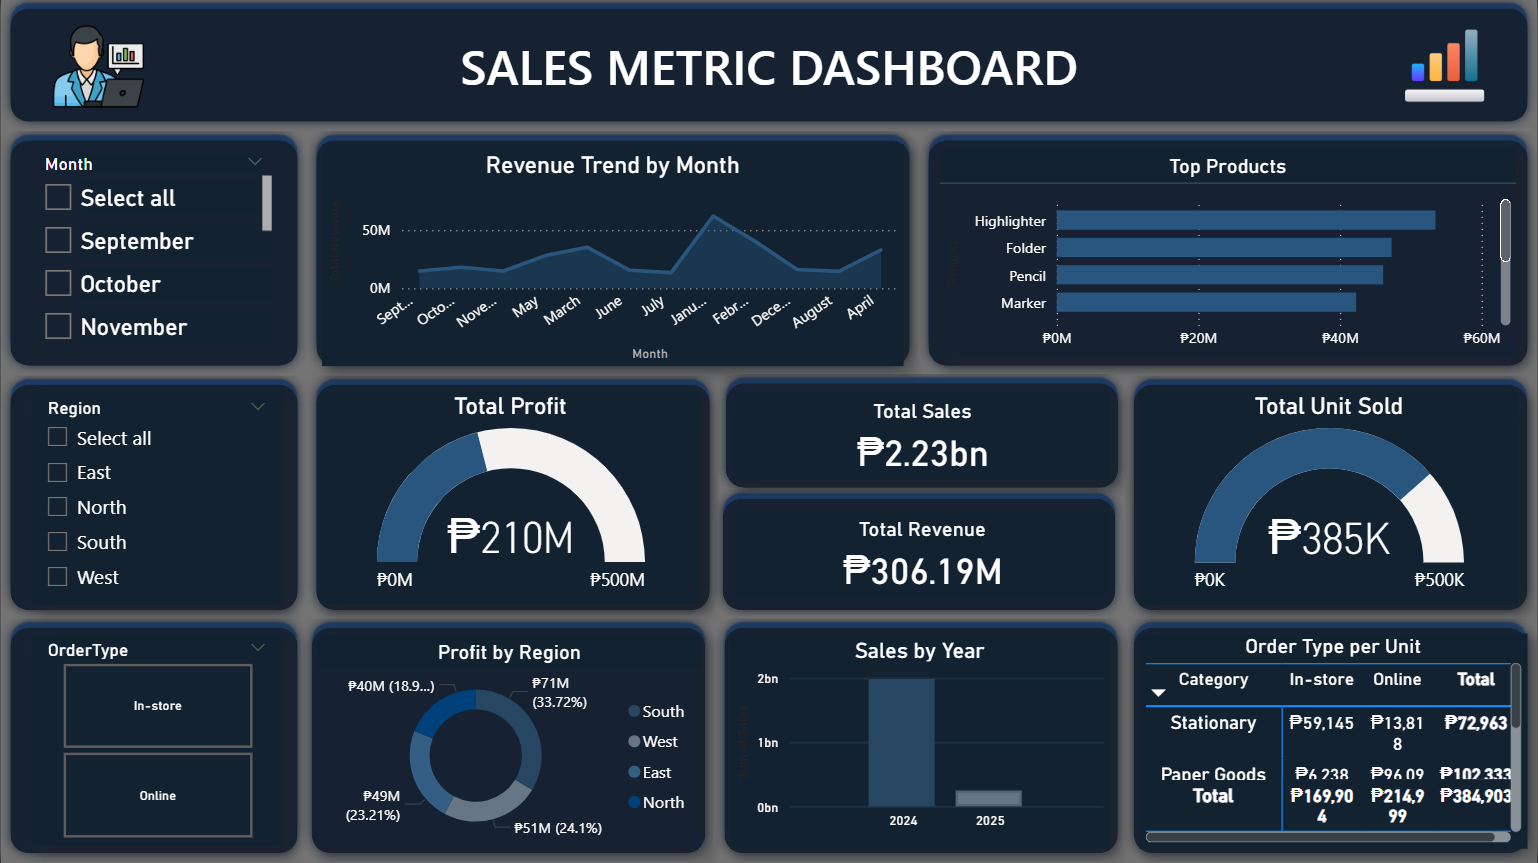

This screenshot's page, from the dashboard's own definition file:
{"tool":"powerbi","page":{"name":"Data Sales Dashboard","canvas":[1280,720],"ordinal":0},"visuals":[{"type":"shape","box":[0,0,1280,110],"z":0},{"type":"shape","box":[0,110,255,203.3],"z":1000},{"type":"shape","box":[0,313.3,255,203.3],"z":2000},{"type":"shape","box":[0,516.7,255,203.3],"z":3000},{"type":"shape","box":[255,110,510,203.3],"z":4000},{"type":"shape","box":[765,110,515,203.3],"z":5000},{"type":"shape","box":[255,313.3,343.3,203.3],"z":6000},{"type":"shape","box":[595.8,312.5,342.5,102.5],"z":7000},{"type":"shape","box":[936.7,313.3,343.3,203.3],"z":8000},{"type":"shape","box":[251.7,516.7,343.3,203.3],"z":9000},{"type":"shape","box":[595,516.7,343.3,203.3],"z":10000},{"type":"shape","box":[936.7,516.7,343.3,203.3],"z":11000},{"type":"lineChart","title":"Revenue Trend by Month","fields":{"Y":["Table1.Total Revenue"],"Category":["Table1.Month"]},"box":[267.8,121.1,484.4,184.4],"z":12000},{"type":"barChart","title":"Top Products","fields":{"Category":["Table1.Product"],"Y":["Table1.Total Revenue"]},"box":[782.5,123.8,480,176.2],"z":13000},{"type":"donutChart","title":"Profit by Region","fields":{"Category":["Table1.Region"],"Y":["Table1.Total Profit"]},"box":[263.6,529.1,320,179.1],"z":14000},{"type":"slicer","fields":{"Values":["Table1.Month"]},"box":[24.3,124.3,207.1,175.7],"z":15000},{"type":"gauge","fields":{"Y":["Table1.Total Profit"]},"box":[266.7,327.8,316.7,176.7],"z":16000},{"type":"pivotTable","title":"Order Type per Unit","fields":{"Rows":["Table1.Category"],"Values":["Table1.Total Unit Sold"],"Columns":["Table1.OrderType"]},"box":[949,529,323,179],"z":17000},{"type":"card","title":"Total Sales","fields":{"Values":["Sum(Table1.Sales)"]},"box":[610.8,327.5,313.3,73.3],"z":18000},{"type":"slicer","fields":{"Values":["Table1.Region"]},"box":[25.7,327.1,207.1,177.1],"z":19000},{"type":"image","box":[1164.3,15.7,78.6,78.6],"z":20000},{"type":"image","box":[32.9,7.1,97.1,97.1],"z":21000},{"type":"lineClusteredColumnComboChart","title":"Sales by Year","fields":{"Category":["Table1.Date.Variation.Date Hierarchy.Year"],"Y":["Sum(Table1.Sales)"]},"box":[608,529,316,179],"z":22000},{"type":"shape","box":[594.2,408.3,342.5,108.3],"z":23000},{"type":"card","title":"Total Revenue","fields":{"Values":["Table1.Total Revenue"]},"box":[610.8,425.8,313.3,73.3],"z":24000},{"type":"gauge","fields":{"Y":["Table1.Total Unit Sold"]},"box":[948.6,327.1,315.7,177.1],"z":25000},{"type":"slicer","fields":{"Values":["Table1.OrderType"]},"box":[25.7,528.6,207.1,177],"z":26000}]}

Visuals, with their boxes in screenshot pixels (x1, y1, x2, y2), scaled from the page's 1280x720 canvas onto the 1538x863 screenshot:
shape: (0,0,1537,132)
shape: (0,132,306,376)
shape: (0,376,306,619)
shape: (0,619,306,862)
shape: (306,132,919,376)
shape: (919,132,1537,376)
shape: (306,376,719,619)
shape: (716,375,1127,497)
shape: (1126,376,1537,619)
shape: (302,619,715,862)
shape: (715,619,1127,862)
shape: (1126,619,1537,862)
"Revenue Trend by Month" lineChart: (322,145,904,366)
"Top Products" barChart: (940,148,1517,360)
"Profit by Region" donutChart: (317,634,701,849)
slicer - Table1.Month: (29,149,278,360)
gauge - Table1.Total Profit: (320,393,701,605)
"Order Type per Unit" pivotTable: (1140,634,1528,849)
"Total Sales" card: (734,393,1110,480)
slicer - Table1.Region: (31,392,280,604)
image: (1399,19,1493,113)
image: (40,9,156,125)
"Sales by Year" lineClusteredColumnComboChart: (731,634,1110,849)
shape: (714,489,1126,619)
"Total Revenue" card: (734,510,1110,598)
gauge - Table1.Total Unit Sold: (1140,392,1519,604)
slicer - Table1.OrderType: (31,634,280,846)
